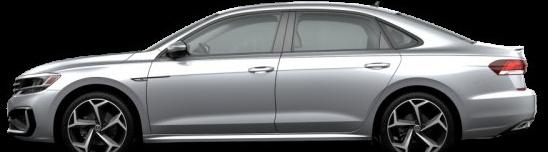Cars: (7, 2, 537, 151)
